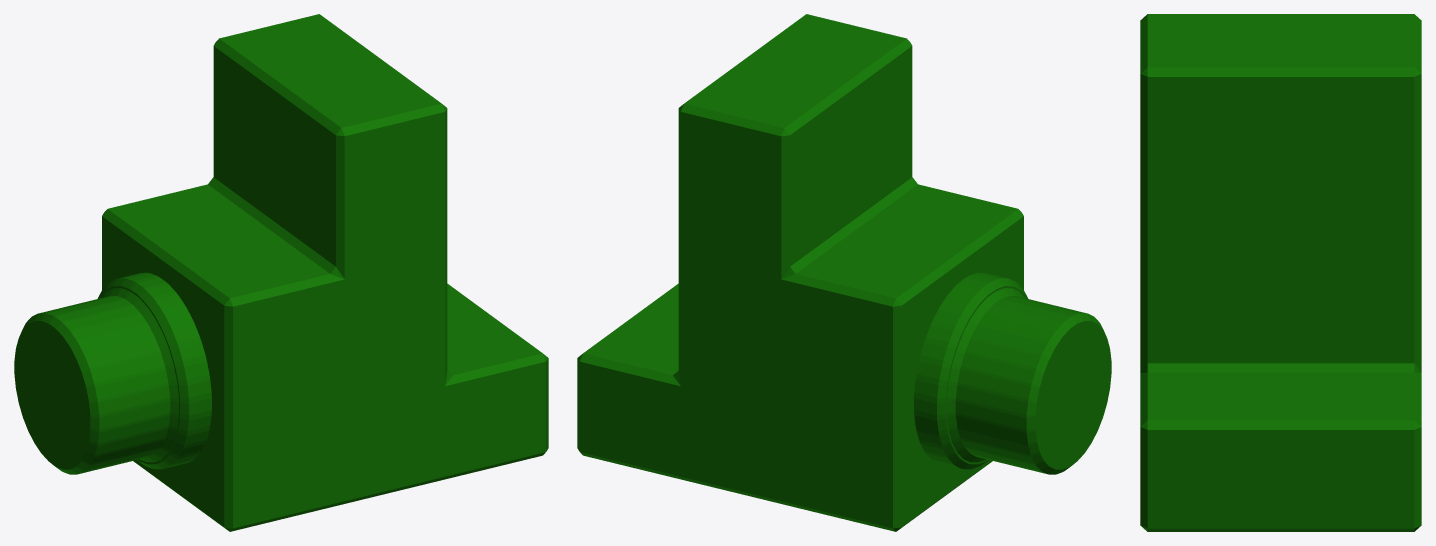
The model's file is assembly_sensor_part_green.dae.
The picture shows the model from 3 angles, left to right: view 1: azimuth 30°, elevation 25°; view 2: azimuth 150°, elevation 25°; view 3: azimuth 270°, elevation 25°; orthographic projection. The views are drawn at different scales.
Visible parts, largest first — view 1: inputSensor; view 2: inputSensor; view 3: inputSensor.
Boxes of the visible parts, box(x1,y1,x2,y2) form: inputSensor: box(14, 14, 548, 531); inputSensor: box(577, 14, 1111, 531); inputSensor: box(1140, 14, 1421, 531).
Bounding box in the file's own units: 0.1313 × 0.0674 × 0.1087.
